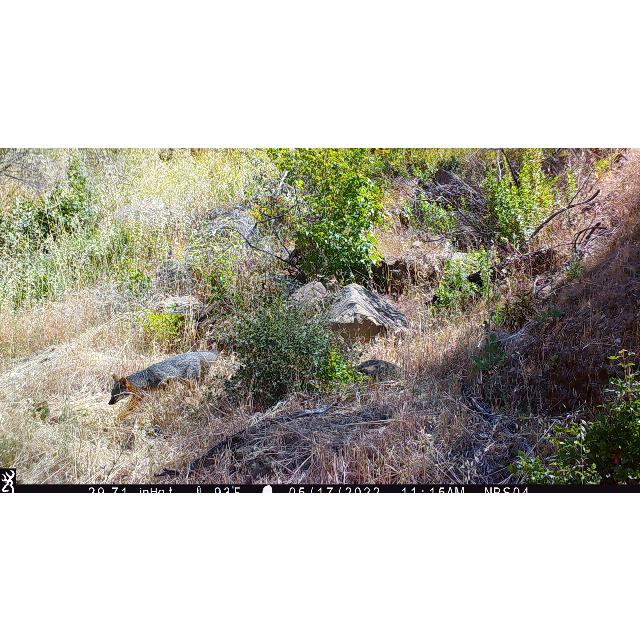animals: (109, 350, 219, 420)
